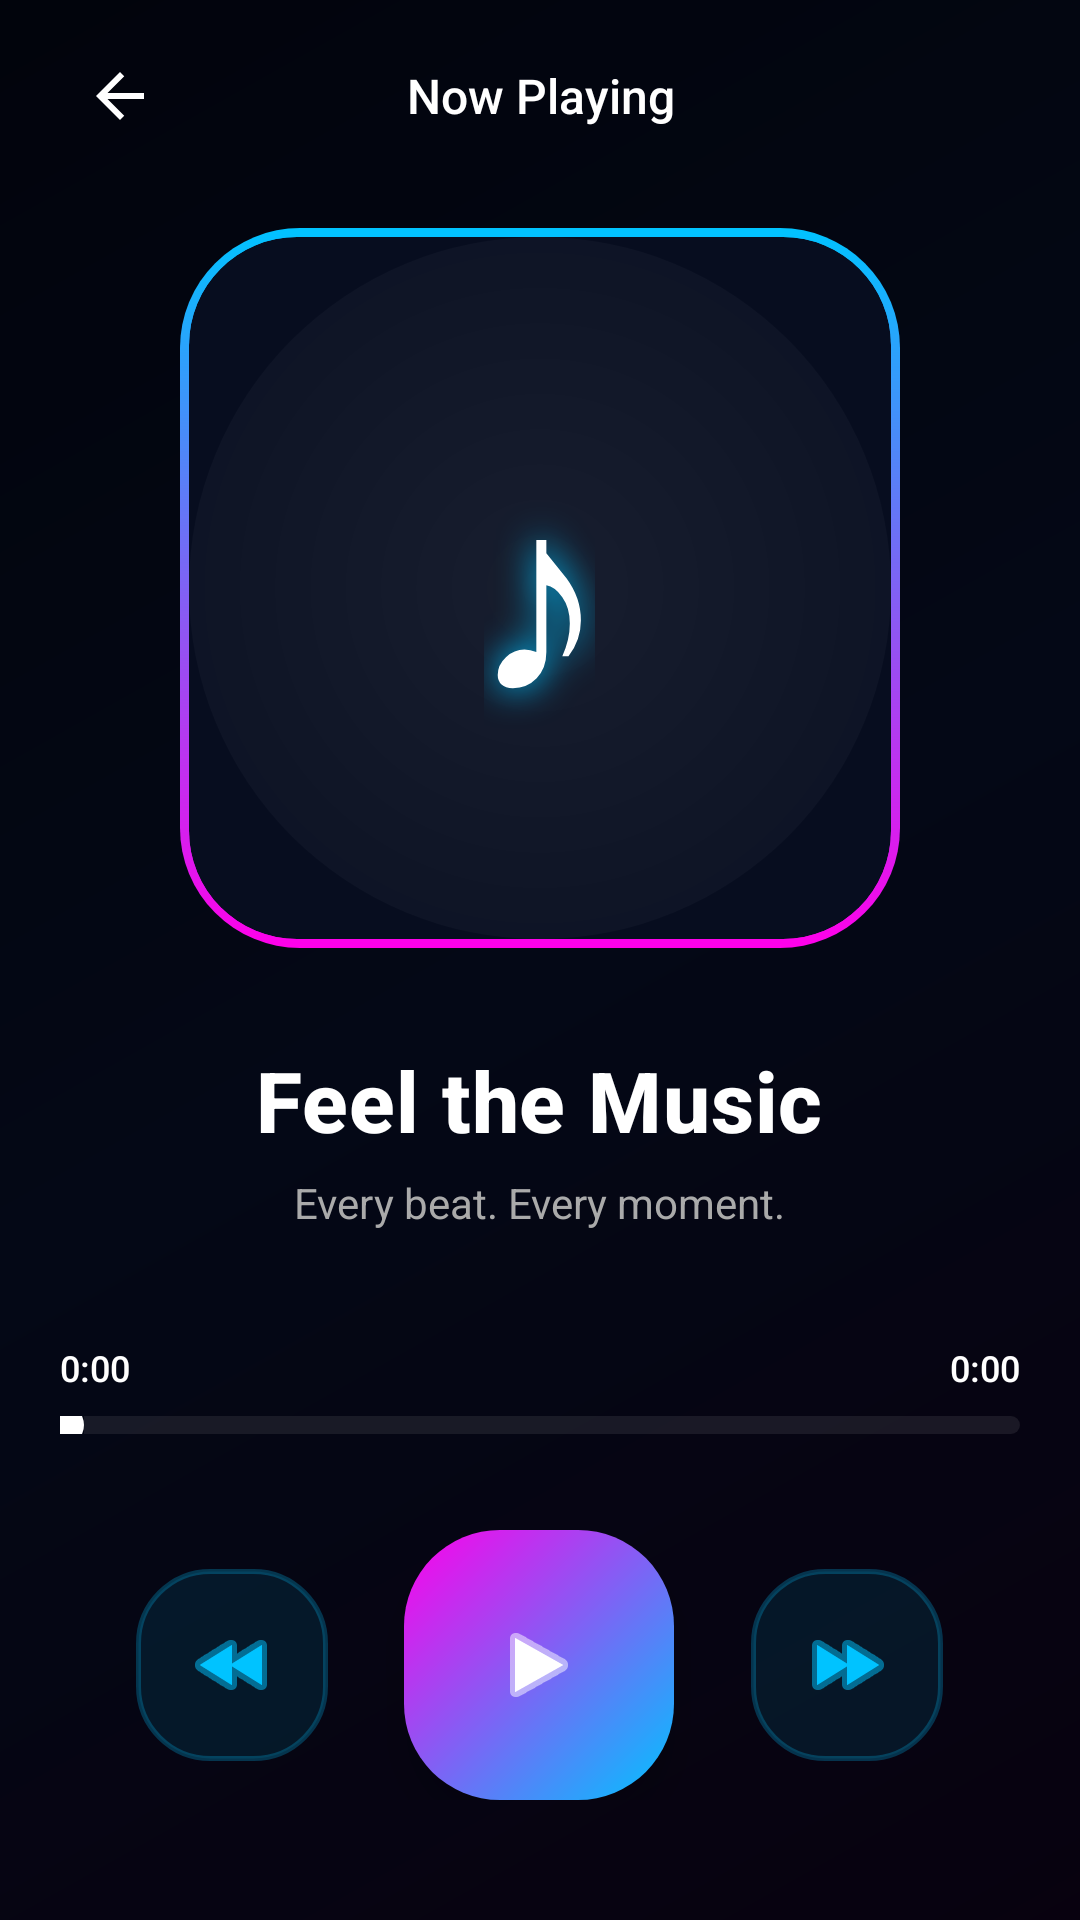

Where icons sit on this 1080*1920 app screen, as (x1, y1, x2, y2):
+10s: (751, 1569, 943, 1761)
-10s: (136, 1569, 328, 1761)
Back: (96, 72, 144, 120)
Play/Pause: (404, 1530, 674, 1800)
